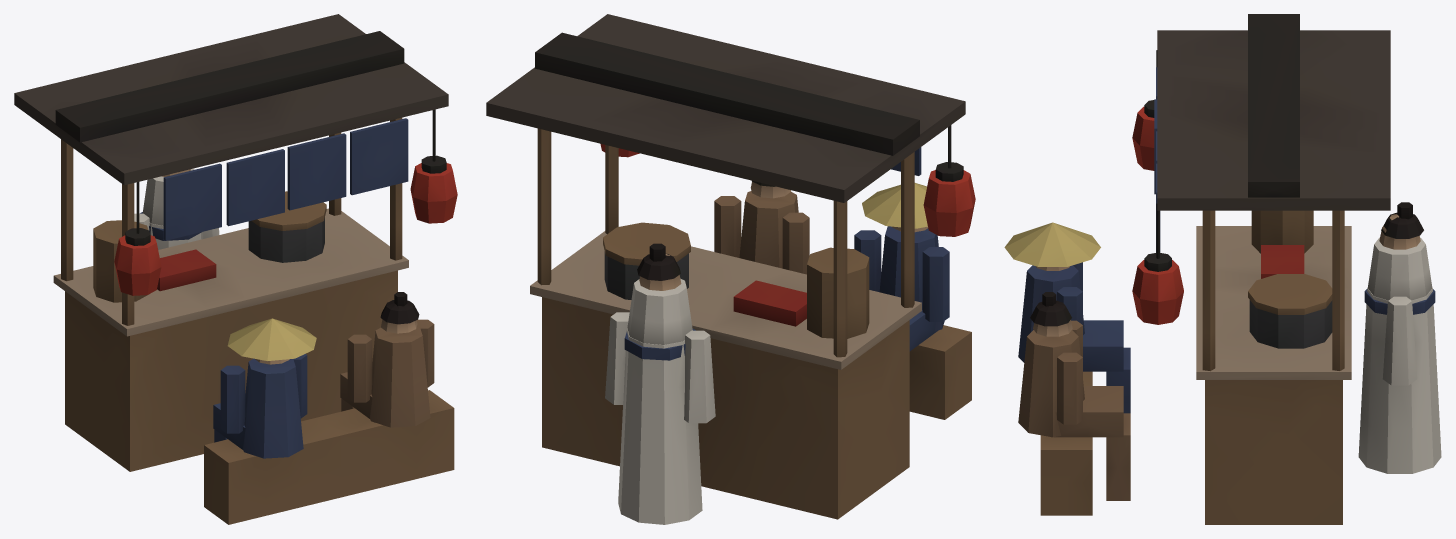
File: stall.glb
3 views of the same model, side by side, from view 1: azimuth 30°, elevation 25°; view 2: azimuth 150°, elevation 25°; view 3: azimuth 270°, elevation 25° (orthographic). The views are drawn at different scales.
Visible parts, largest first — view 1: base; view 2: base; view 3: base.
Boxes of the visible parts, bbox=[...] form: base: bbox=[14, 14, 457, 524]; base: bbox=[486, 14, 975, 524]; base: bbox=[1004, 14, 1441, 524].
Size of the model in its own units: 2.4 by 2.29 by 2.53.
